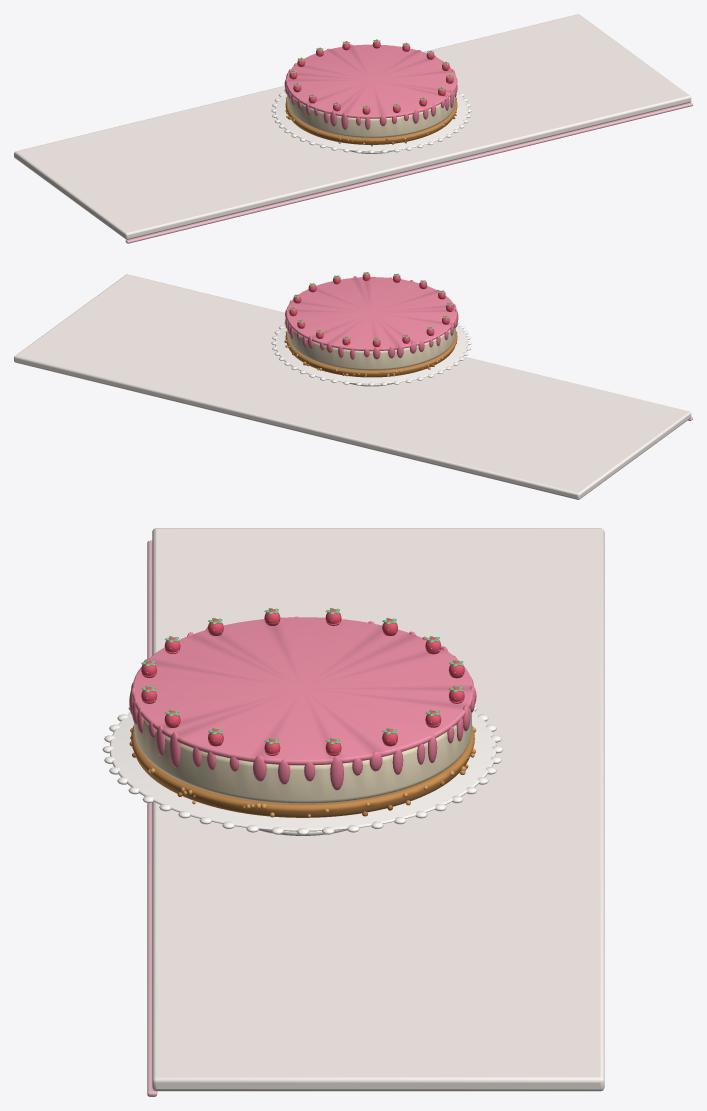
Rendered from bigcake.glb.
3 views of the same model, one above another, from view 1: azimuth 30°, elevation 25°; view 2: azimuth 150°, elevation 25°; view 3: azimuth 270°, elevation 25° (orthographic). The views are drawn at different scales.
Parts seen in each view (by area): view 1: counter, glaze, counter_trim, cream, cfffaf6, crust, cf07f9c, cef5470; view 2: counter, glaze, cream, cfffaf6, crust, cf07f9c, cef5470; view 3: counter, glaze, cream, cfffaf6, crust, cf07f9c, cef5470, counter_trim, c7cc68a.
Part boxes in pixels (bbox=[...]): counter: bbox=[14, 14, 691, 239]; glaze: bbox=[286, 44, 456, 118]; counter_trim: bbox=[125, 102, 692, 243]; cream: bbox=[287, 90, 455, 137]; cfffaf6: bbox=[271, 89, 471, 153]; crust: bbox=[285, 99, 457, 144]; cf07f9c: bbox=[284, 44, 457, 129]; cef5470: bbox=[289, 40, 453, 114]; counter: bbox=[14, 274, 691, 499]; glaze: bbox=[286, 277, 456, 351]; cream: bbox=[287, 322, 455, 370]; cfffaf6: bbox=[271, 322, 471, 386]; crust: bbox=[285, 331, 457, 377]; cf07f9c: bbox=[285, 276, 458, 359]; cef5470: bbox=[289, 272, 453, 346]; counter: bbox=[152, 528, 604, 1091]; glaze: bbox=[132, 617, 473, 765]; cream: bbox=[134, 707, 471, 803]; cfffaf6: bbox=[102, 706, 503, 835]; crust: bbox=[131, 725, 474, 817]; cf07f9c: bbox=[129, 616, 476, 790]; cef5470: bbox=[141, 609, 464, 755]; counter_trim: bbox=[147, 540, 157, 1096]; c7cc68a: bbox=[141, 608, 463, 744].
Size of the model in its own units: 26 by 3.22 by 9.99.
